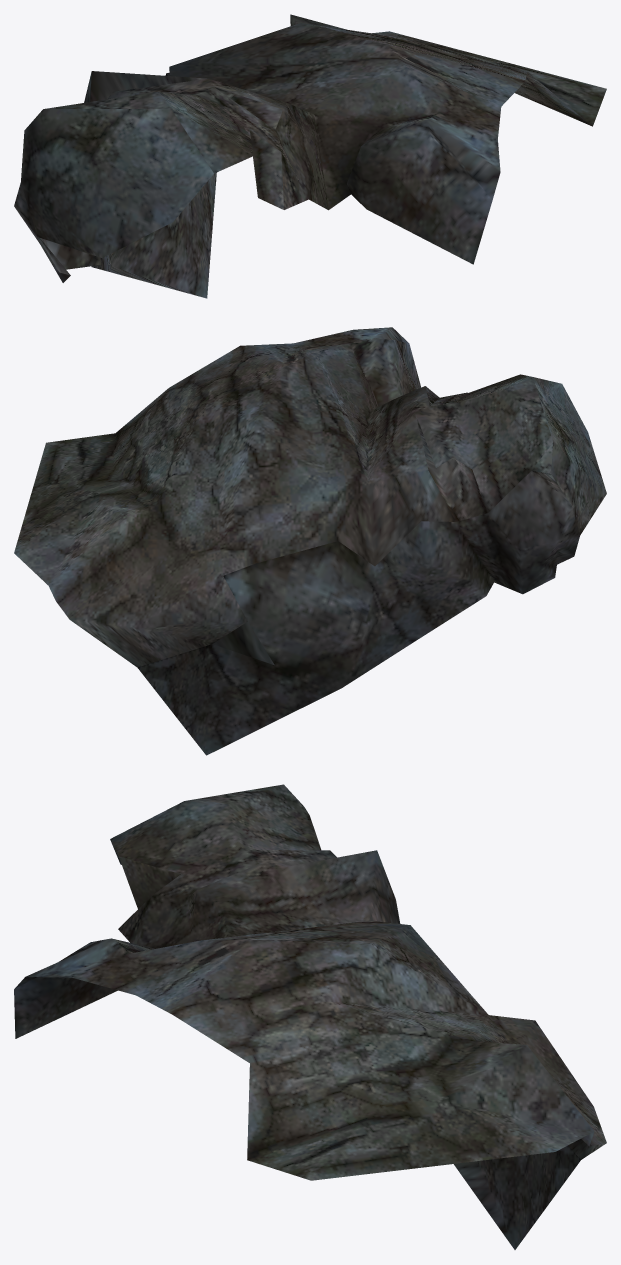
Rendered from S_Rock_Yellow034_H33.FBX.
3 renders of one model, top to bottom at view 1: azimuth 30°, elevation 25°; view 2: azimuth 150°, elevation 25°; view 3: azimuth 270°, elevation 25°, orthographic. The views are drawn at different scales.
Visible parts, largest first — view 1: S_Rock_Yellow034_H33; view 2: S_Rock_Yellow034_H33; view 3: S_Rock_Yellow034_H33.
Part boxes in pixels (x1=…): S_Rock_Yellow034_H33: x1=14, y1=14, x2=606, y2=298; S_Rock_Yellow034_H33: x1=14, y1=327, x2=606, y2=755; S_Rock_Yellow034_H33: x1=14, y1=784, x2=606, y2=1249.
Bounding box in the file's own units: 1211 × 1081 × 708.
Materials: 1 (1 with a texture image).
